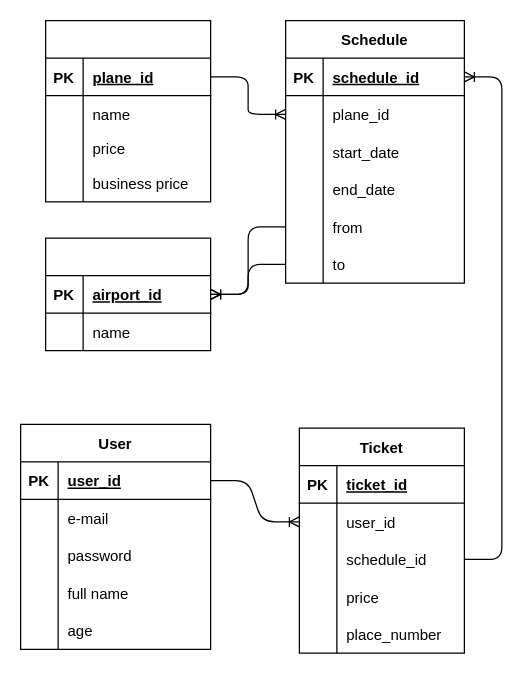
Image size: 523x674. Some labels were removed from this diagram. The shapes that lost their labels are listed below. From the top down, each one's box as (x1, y1, x2, y2) in pixels, then its label:
(44, 19, 211, 202): Planes
(44, 237, 211, 351): Airports
